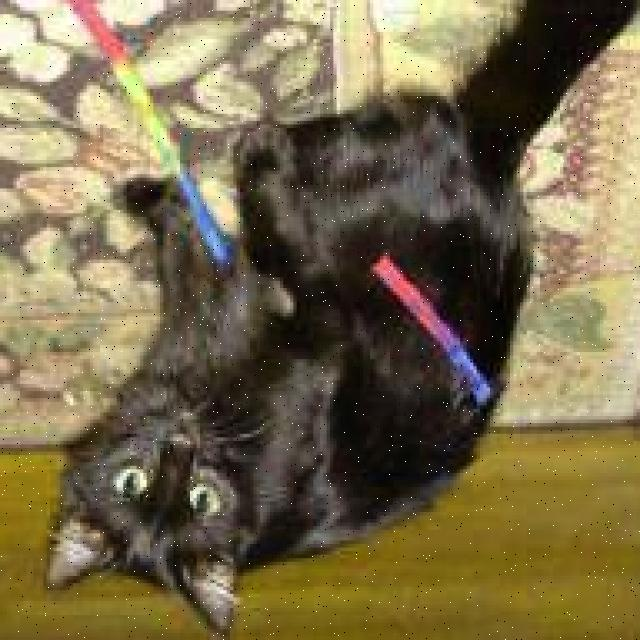Cat: (34, 374, 290, 638)
